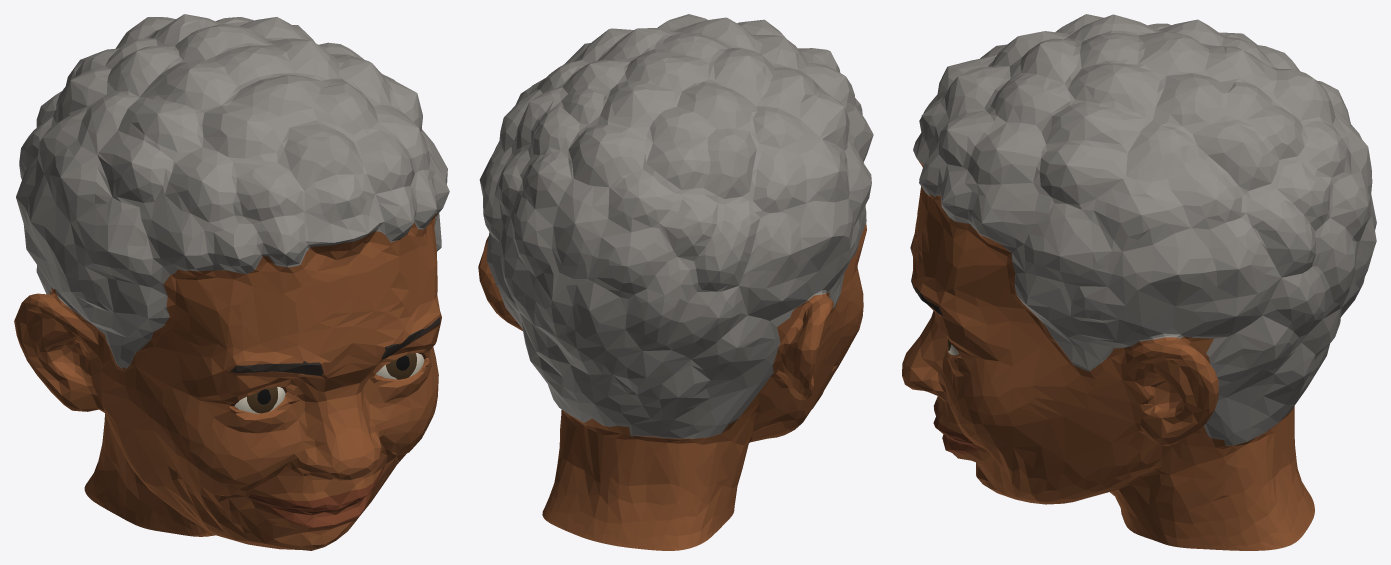
Rendered from ada-head.glb.
3 renders of one model, left to right at view 1: azimuth 30°, elevation 25°; view 2: azimuth 150°, elevation 25°; view 3: azimuth 270°, elevation 25°, orthographic. The views are drawn at different scales.
Parts seen in each view (by area): view 1: Silver curls, Skin, Lips, Upper lip, Brows, Iris, Eye ivory; view 2: Silver curls, Skin; view 3: Silver curls, Skin.
Part boxes in pixels (x1,y1,x2,y2): Silver curls: [16, 14, 449, 368]; Skin: [14, 212, 441, 550]; Lips: [249, 490, 372, 528]; Upper lip: [249, 466, 384, 512]; Brows: [230, 317, 440, 375]; Iris: [247, 353, 416, 413]; Eye ivory: [235, 353, 424, 413]; Silver curls: [479, 14, 873, 438]; Skin: [478, 205, 866, 550]; Silver curls: [913, 14, 1376, 445]; Skin: [902, 161, 1314, 550].
Size of the model in its own units: 0.135 by 0.166 by 0.1517.
